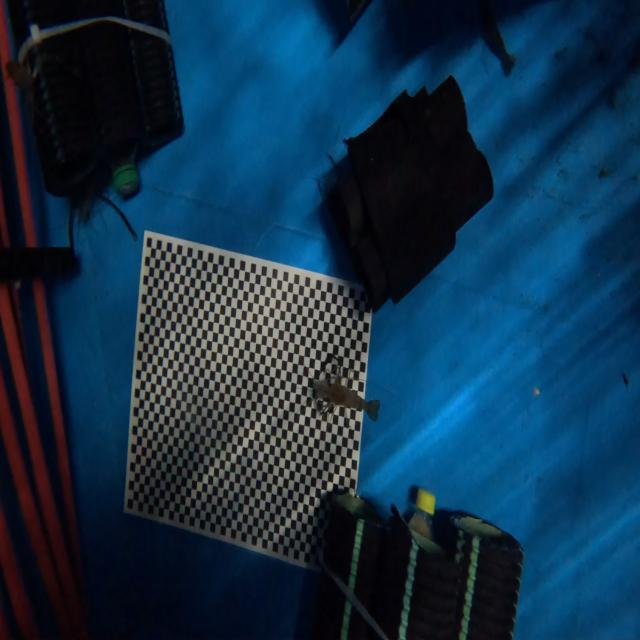prawn: (313, 381, 378, 414)
